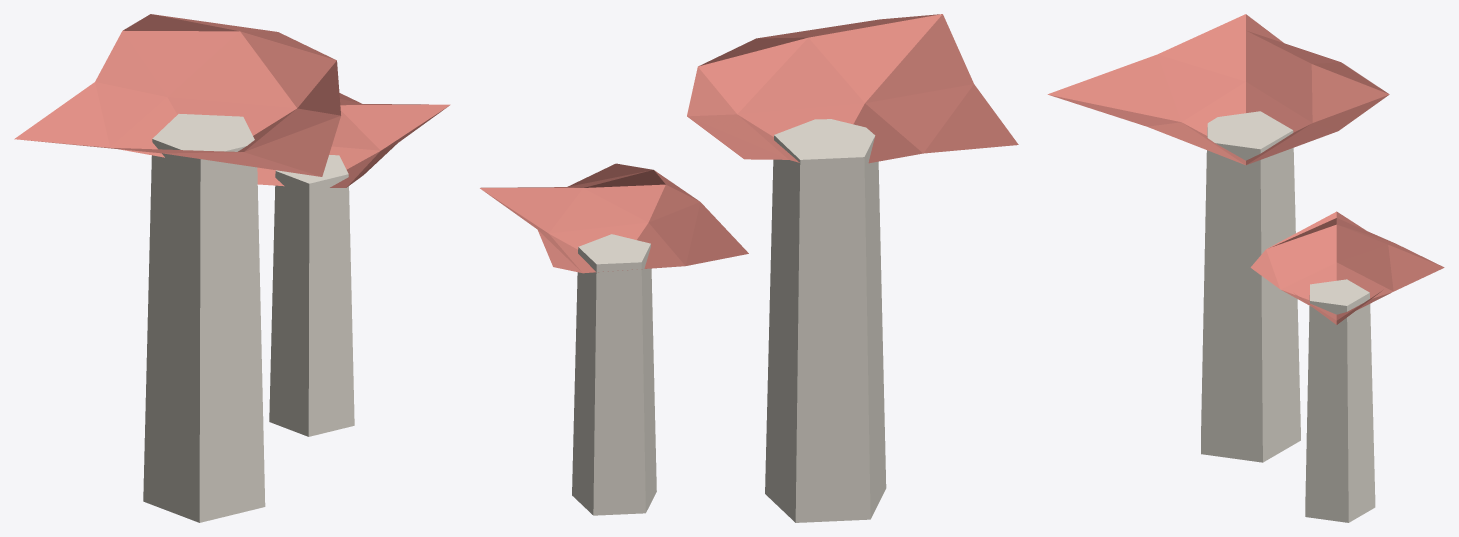
Rendered from mushroom_v08.glb.
3 views of the same model, side by side, from view 1: azimuth 30°, elevation 25°; view 2: azimuth 150°, elevation 25°; view 3: azimuth 270°, elevation 25° (orthographic). The views are drawn at different scales.
Parts seen in each view (by area): view 1: lod0; view 2: lod0; view 3: lod0.
Boxes of the visible parts, x1,y1,x2,y2 form: lod0: (14,14,450,522); lod0: (480,14,1018,522); lod0: (1047,14,1444,522).
Size of what is drawn, in the model's own units: 0.3685 by 0.3404 by 0.3021.
